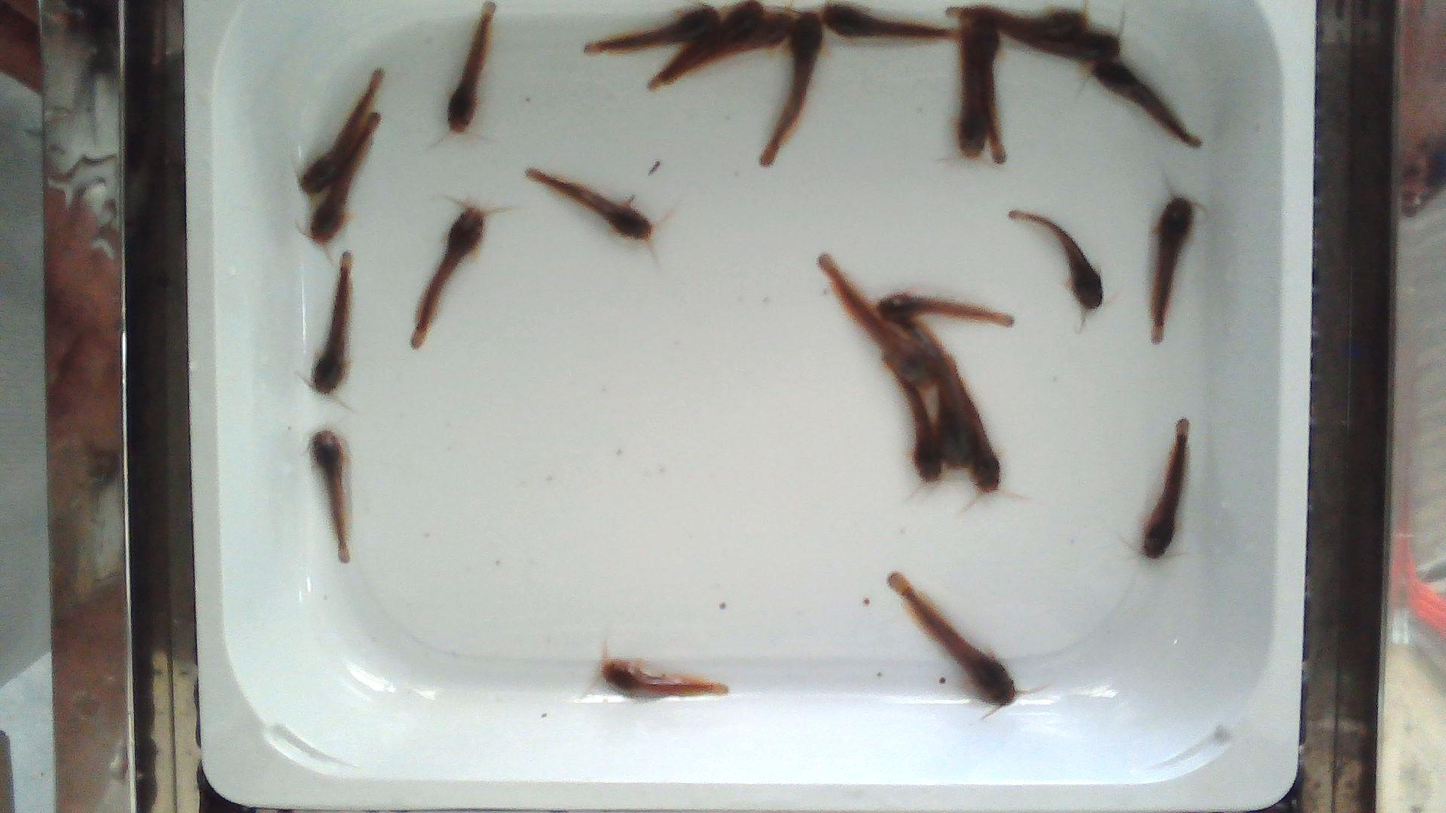lele: (888, 572, 1016, 705), (819, 249, 937, 390), (300, 68, 385, 196), (411, 207, 486, 348), (907, 320, 975, 467), (307, 112, 380, 245), (1091, 58, 1200, 147), (651, 3, 764, 88), (1008, 211, 1103, 310), (761, 14, 822, 165), (526, 169, 651, 239), (944, 352, 1002, 488), (581, 6, 721, 56), (885, 370, 943, 483), (988, 19, 1120, 67), (1143, 419, 1188, 558), (1151, 197, 1193, 343), (448, 3, 495, 131), (312, 251, 352, 393), (691, 14, 795, 66), (971, 19, 1007, 164), (600, 658, 728, 696), (874, 291, 1012, 326), (313, 431, 349, 562), (822, 4, 950, 38), (959, 23, 990, 159), (952, 8, 1085, 38)
